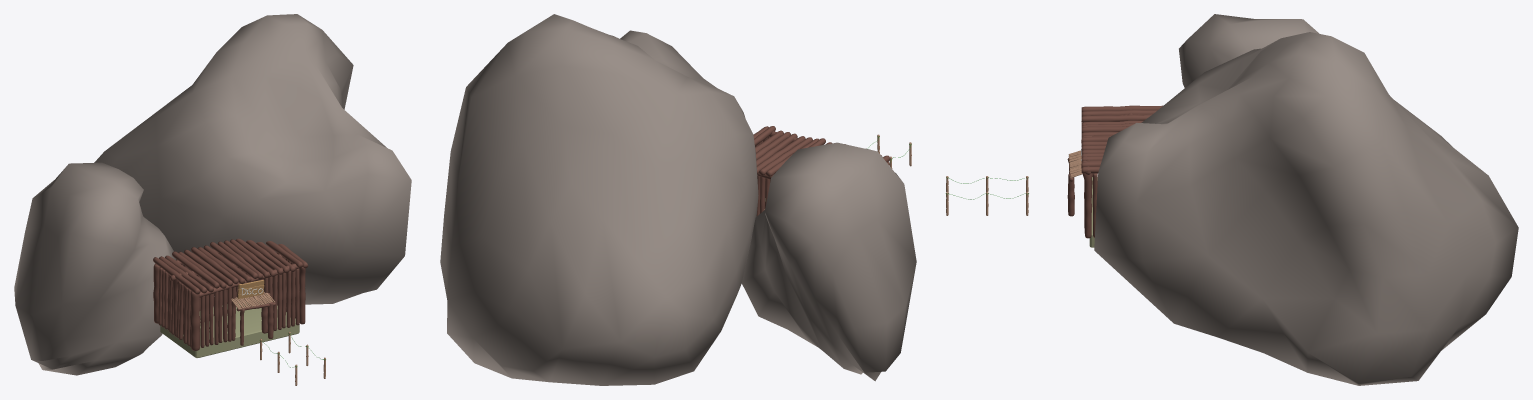
Rendered from Monkey Disco Base parte base model test 1.fbx.
3 renders of one model, left to right at view 1: azimuth 30°, elevation 25°; view 2: azimuth 150°, elevation 25°; view 3: azimuth 270°, elevation 25°, orthographic. The views are drawn at different scales.
Parts seen in each view (by area): view 1: rock.002, rock, BaseHut, Floor, HutEntrance, SignStand; view 2: rock.002, rock, BaseHut; view 3: rock.002, rock, BaseHut, HutEntrance.
Boxes of the visible parts, bbox=[...] form: rock.002: bbox=[94, 14, 411, 304]; rock: bbox=[14, 162, 175, 375]; BaseHut: bbox=[153, 238, 308, 350]; Floor: bbox=[160, 300, 299, 357]; HutEntrance: bbox=[231, 292, 275, 345]; SignStand: bbox=[237, 280, 264, 298]; rock.002: bbox=[440, 14, 758, 385]; rock: bbox=[741, 142, 916, 381]; BaseHut: bbox=[753, 126, 890, 216]; rock.002: bbox=[1094, 32, 1518, 385]; rock: bbox=[1179, 14, 1319, 87]; BaseHut: bbox=[1081, 105, 1162, 238]; HutEntrance: bbox=[1067, 150, 1091, 216].
Size of the model in its own units: 2447 by 2026 by 1511.
